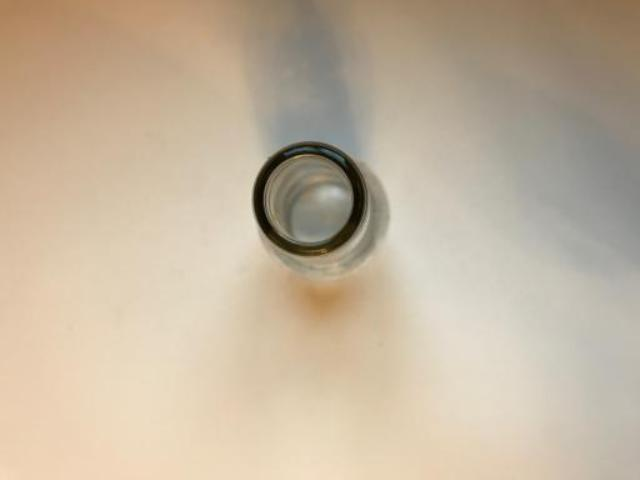metal: (251, 140, 386, 275)
